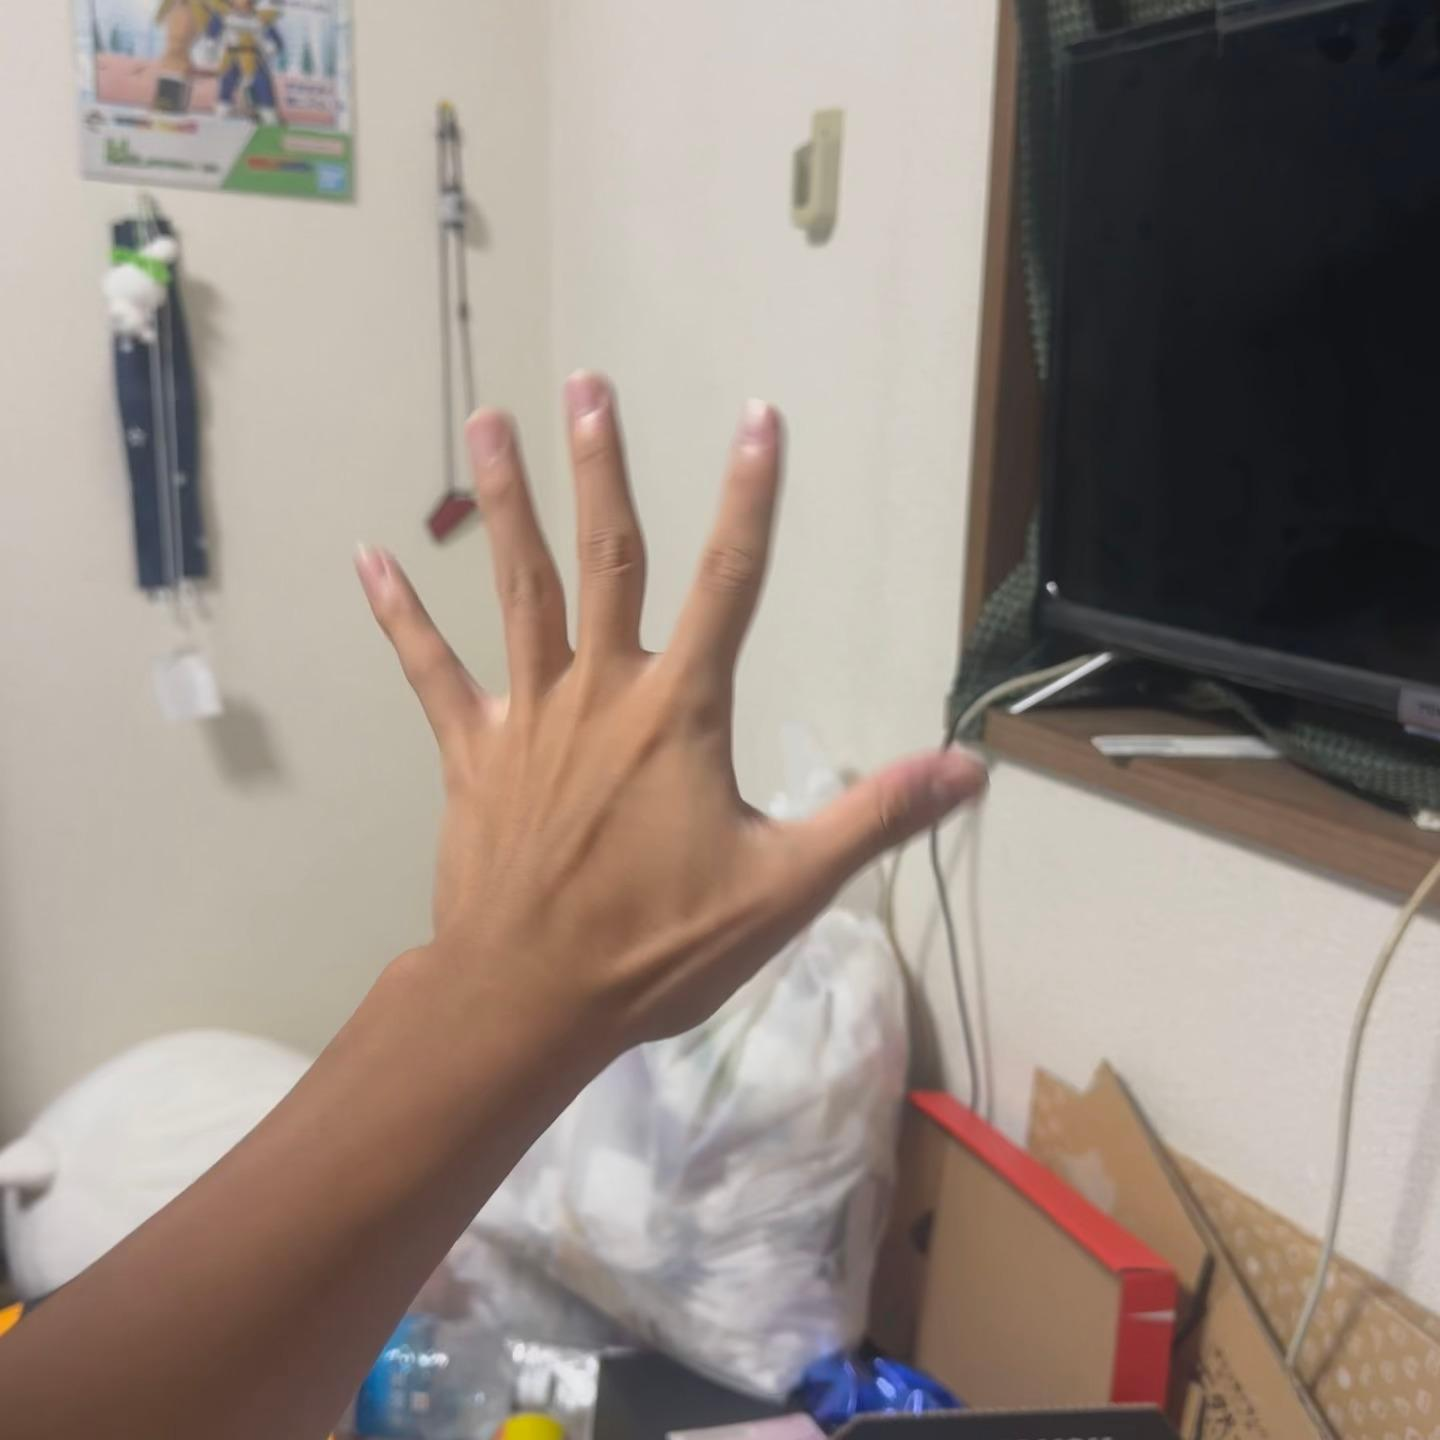without_gloves: (268, 270, 935, 1059)
